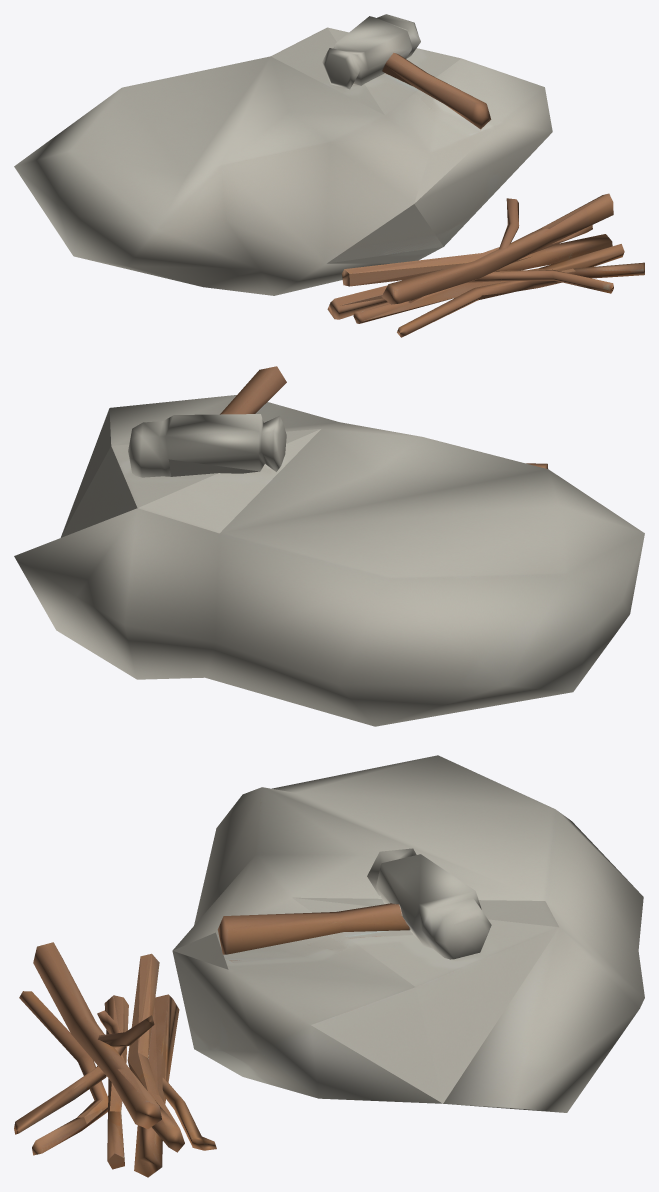
The model's file is Meshy_AI_Kindling_on_a_Stone_0806165815_texture.fbx.
The picture shows the model from 3 angles, top to bottom: view 1: azimuth 30°, elevation 25°; view 2: azimuth 150°, elevation 25°; view 3: azimuth 270°, elevation 25°; orthographic projection. The views are drawn at different scales.
Visible parts, largest first — view 1: mesh_node; view 2: mesh_node; view 3: mesh_node.
Part boxes in pixels (x1=…): mesh_node: x1=14, y1=14, x2=644, y2=337; mesh_node: x1=14, y1=366, x2=644, y2=726; mesh_node: x1=14, y1=755, x2=644, y2=1177.
Size of the model in its own units: 259 by 100 by 250.
1 material, 1 textured.
